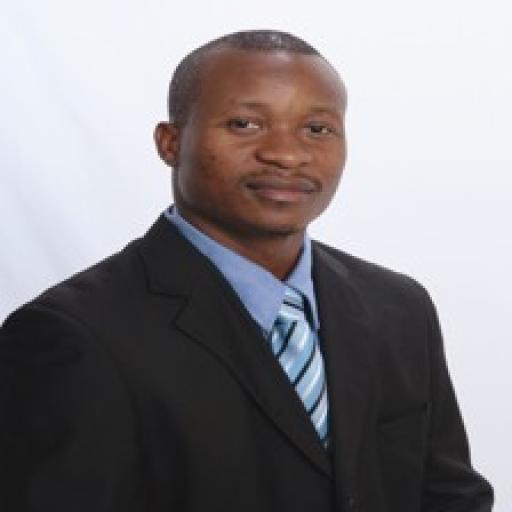human: (0, 20, 473, 512)
